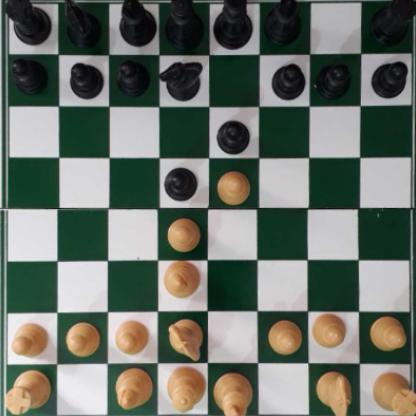black-bishop: (263, 0, 302, 47), (118, 0, 156, 46)
black-king: (215, 0, 253, 52)
black-knight: (63, 0, 101, 48), (162, 58, 201, 99)
black-pawn: (370, 59, 407, 98), (11, 57, 48, 94), (216, 117, 251, 154), (69, 60, 103, 98), (317, 60, 350, 97), (116, 59, 149, 96), (271, 63, 304, 99), (164, 166, 197, 201)
black-queen: (165, 0, 205, 48)
black-rook: (4, 0, 53, 42), (368, 0, 415, 43)
white-bishop: (115, 366, 151, 409), (163, 259, 200, 298)
white-king: (215, 369, 251, 416)
white-knight: (316, 368, 351, 416), (168, 317, 204, 361)
white-pawn: (9, 321, 50, 357), (113, 318, 149, 356), (266, 319, 302, 355), (369, 316, 407, 350), (312, 311, 346, 348), (166, 215, 201, 250), (215, 169, 251, 203), (65, 320, 99, 355)
white-queen: (167, 363, 204, 416)
white-rook: (4, 368, 52, 414), (371, 370, 416, 416)
